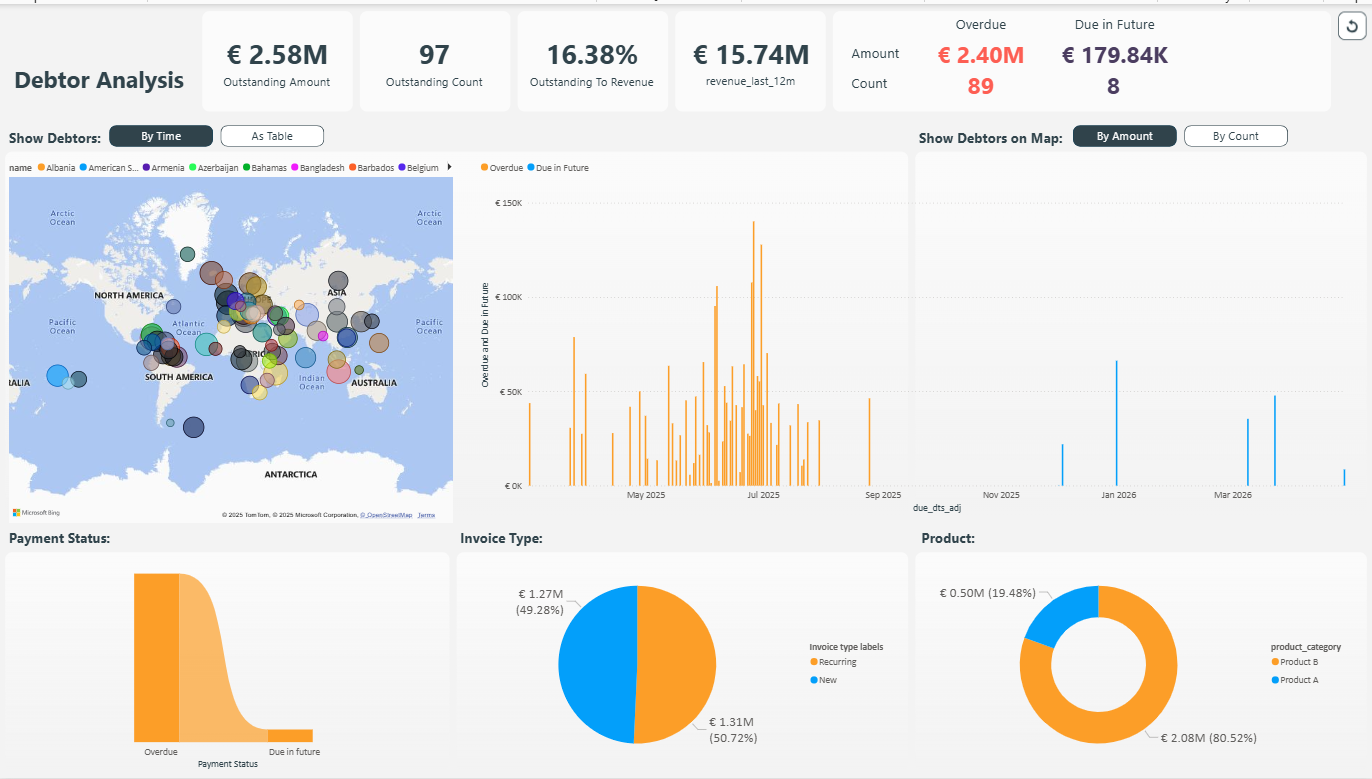

The dashboard page shown, as its layout file describes it:
{"tool":"powerbi","page":{"name":"Debtor Analysis","canvas":[1920,1080],"ordinal":0},"visuals":[{"type":"donutChart","fields":{"Y":["Sum(billing_invoice.amount_outstanding_eur)"],"Category":["billing_invoice.product_category"]},"box":[1289.9,770.4,609.4,302.2],"z":0},{"type":"textbox","box":[1282.9,728,167.1,37.1],"z":1000},{"type":"textbox","box":[640,728,167.1,37.1],"z":2000},{"type":"textbox","box":[1280.9,169,220,37.5],"z":3000},{"type":"textbox","box":[10,728,167.1,37.1],"z":4000},{"type":"textbox","box":[1457.8,10,200,40],"z":6000},{"type":"textbox","box":[1271.1,10,200,40],"z":7000},{"type":"textbox","box":[1185.6,92.3,118.9,41.1],"z":8000},{"type":"textbox","box":[1185.7,50.6,118.9,41.1],"z":9000},{"type":"bookmarkNavigator","box":[1500,168.6,300,30],"z":10000},{"type":"bookmarkNavigator","box":[154.4,168.9,300,30],"z":11000},{"type":"textbox","box":[10,168.9,167.8,36.7],"z":12000},{"type":"textbox","box":[17.2,78.6,257.5,59.6],"z":13000},{"type":"pieChart","fields":{"Y":["Sum(billing_invoice.amount_outstanding_eur)"],"Category":["invoice_types.Invoice type labels"]},"box":[647.9,770.4,613.3,302.2],"z":14000},{"type":"map","title":"Map by Amount","fields":{"X":["Countries.longitude"],"Y":["Countries.latitude"],"Series":["Countries.name"],"Size":["Sum(billing_invoice.amount_outstanding_eur)"]},"box":[10.5,207.6,629.7,521.5],"z":15000},{"type":"ribbonChart","fields":{"Category":["billing_invoice.Payment Status"],"Y":["Sum(billing_invoice.amount_outstanding_eur)"]},"box":[16.8,770.4,606.4,302.2],"z":17000},{"type":"columnChart","title":"Debtors by time","fields":{"Y":["Sum(billing_invoice.due_past)","Sum(billing_invoice.due_future)"],"Category":["billing_invoice.due_dts_adj"]},"box":[668,207.6,1243.6,507.6],"z":19000},{"type":"card","fields":{"Values":["billing_invoice.Count of invoices"]},"box":[1457.1,84.3,200,60],"z":21000},{"type":"card","fields":{"Values":["billing_invoice.Count of invoices"]},"box":[1271.1,84.6,200,60],"z":22000},{"type":"card","fields":{"Values":["billing_invoice.Outstanding Invoices"]},"box":[1271.3,39.5,200,60],"z":24000},{"type":"card","fields":{"Values":["billing_invoice.Outstanding Invoices"]},"box":[1457.9,39.4,200,60],"z":25000},{"type":"card","fields":{"Values":["billing_invoice.Debt To Revenue"]},"box":[723.9,10,210,140],"z":26000},{"type":"card","fields":{"Values":["Sum(billing_invoice.revenue_last_12m)"]},"box":[945.5,10.2,210.2,139.8],"z":27000},{"type":"card","fields":{"Values":["CountNonNull(billing_invoice.amount_chargable_eur)"]},"box":[504.5,10,210,140],"z":28000},{"type":"card","fields":{"Values":["billing_invoice.Outstanding Invoices"]},"box":[284.5,10,210,140],"z":29000},{"type":"actionButton","box":[1870,10,40,40],"z":30000}]}

Visuals, with their boxes in screenshot pixels (x1, y1, x2, y2), scaled from the page's 1920x1080 canvas onto the 1372x779 screenshot:
donutChart - Sum(billing_invoice.amount_outstanding_eur) x billing_invoice.product_category: 922 556 1357 774
textbox: 917 525 1036 552
textbox: 457 525 577 552
textbox: 915 122 1073 149
textbox: 7 525 127 552
textbox: 1042 7 1185 36
textbox: 908 7 1051 36
textbox: 847 67 932 96
textbox: 847 36 932 66
bookmarkNavigator: 1072 122 1286 143
bookmarkNavigator: 110 122 325 143
textbox: 7 122 127 148
textbox: 12 57 196 100
pieChart - Sum(billing_invoice.amount_outstanding_eur) x invoice_types.Invoice type labels: 463 556 901 774
"Map by Amount" map: 8 150 457 526
ribbonChart - billing_invoice.Payment Status x Sum(billing_invoice.amount_outstanding_eur): 12 556 445 774
"Debtors by time" columnChart: 477 150 1366 516
card - billing_invoice.Count of invoices: 1041 61 1184 104
card - billing_invoice.Count of invoices: 908 61 1051 104
card - billing_invoice.Outstanding Invoices: 908 28 1051 72
card - billing_invoice.Outstanding Invoices: 1042 28 1185 72
card - billing_invoice.Debt To Revenue: 517 7 667 108
card - Sum(billing_invoice.revenue_last_12m): 676 7 826 108
card - CountNonNull(billing_invoice.amount_chargable_eur): 361 7 511 108
card - billing_invoice.Outstanding Invoices: 203 7 353 108
actionButton: 1336 7 1365 36
